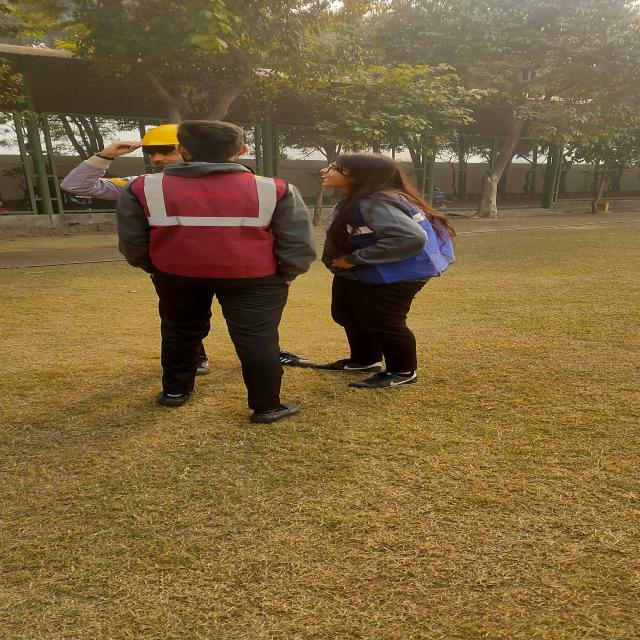safe: (109, 123, 319, 424)
unsafe: (316, 156, 451, 391)
